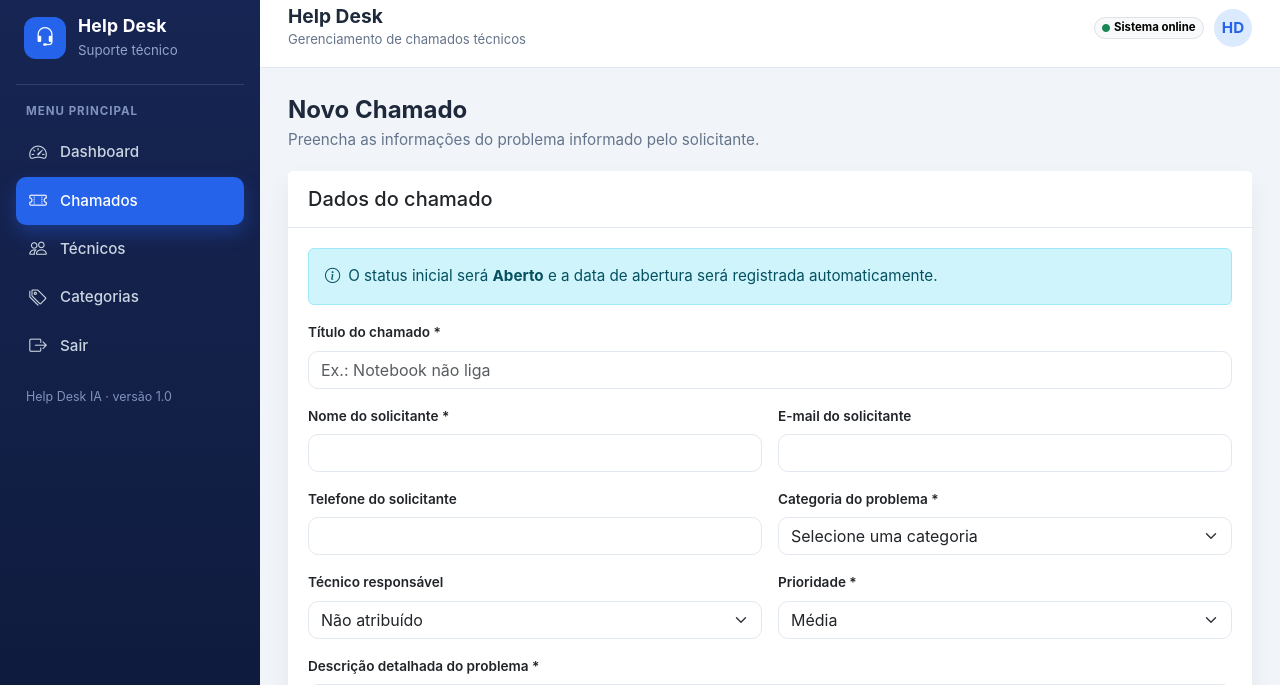
Scenario: Novo chamado › carrega categorias/técnicos e envia o formulário para a API
This screenshot has width=1280, height=685.
Expected: the heading "Novo Chamado" is shown, [288, 95, 467, 124]
Type "Teclado com falha" into the field labelled "Título do chamado *" at (770, 370), box [308, 351, 1232, 389]
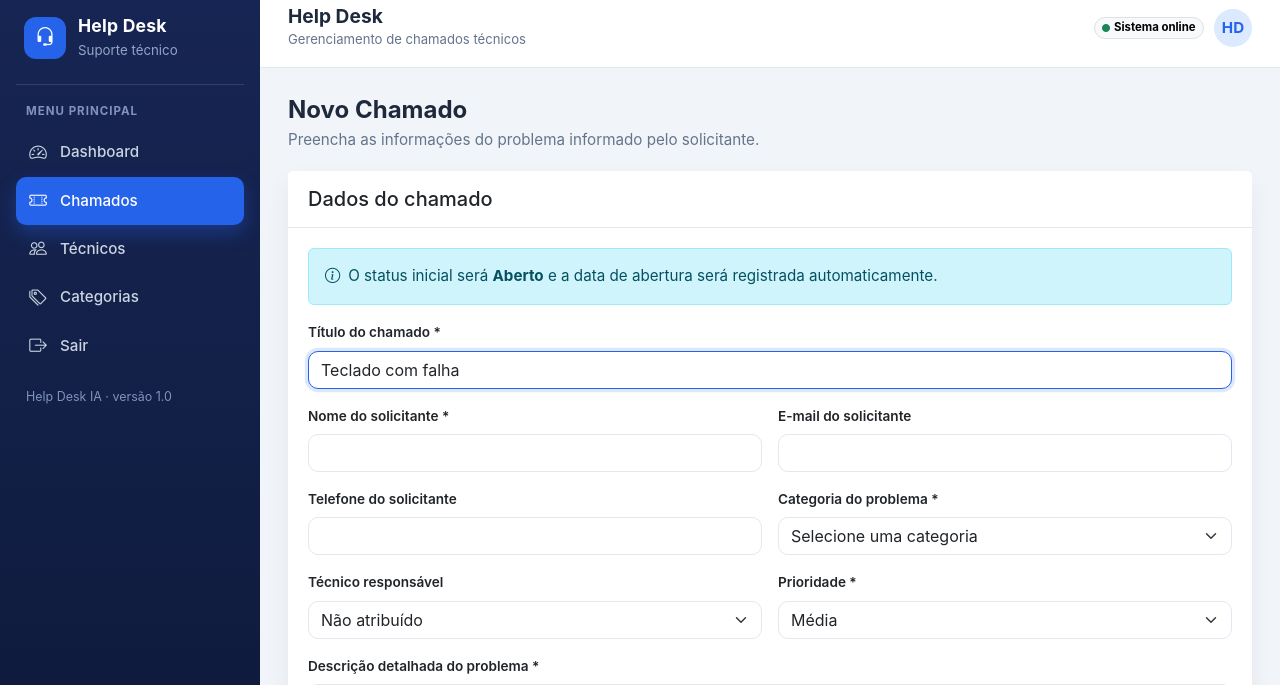
Type "Carlos Lima" into the field labelled "Nome do solicitante *" at (535, 453), box [308, 434, 762, 472]
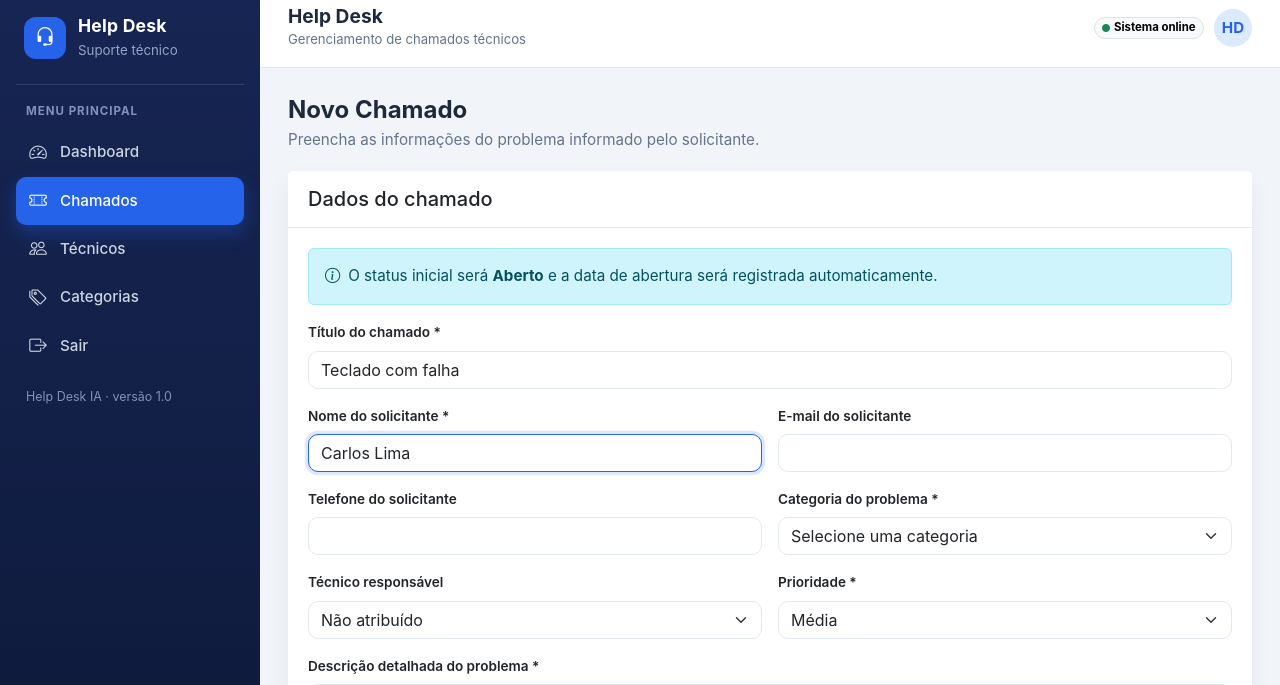
Select "Hardware" in the dropdown labelled "Categoria do problema *" at (1005, 536), box [778, 517, 1232, 555]
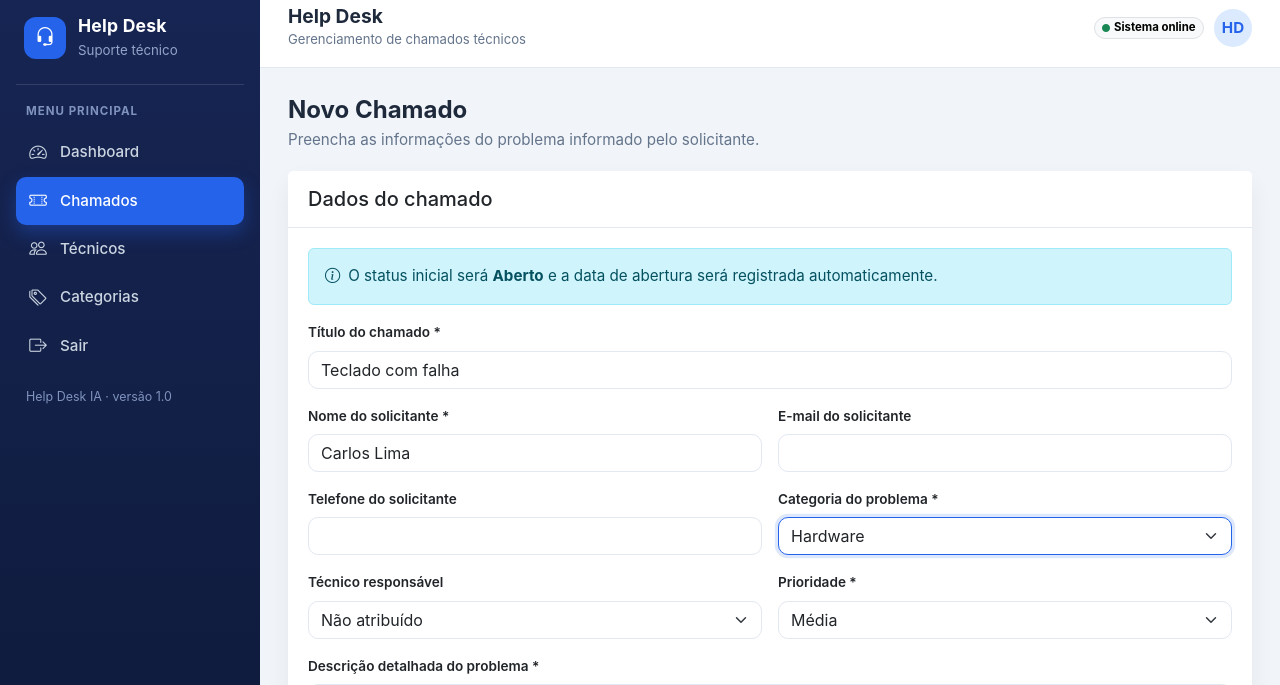
Select "Ana Paula Souza" in the dropdown labelled "Técnico responsável" at (535, 620), box [308, 601, 762, 639]
(page scrolled)
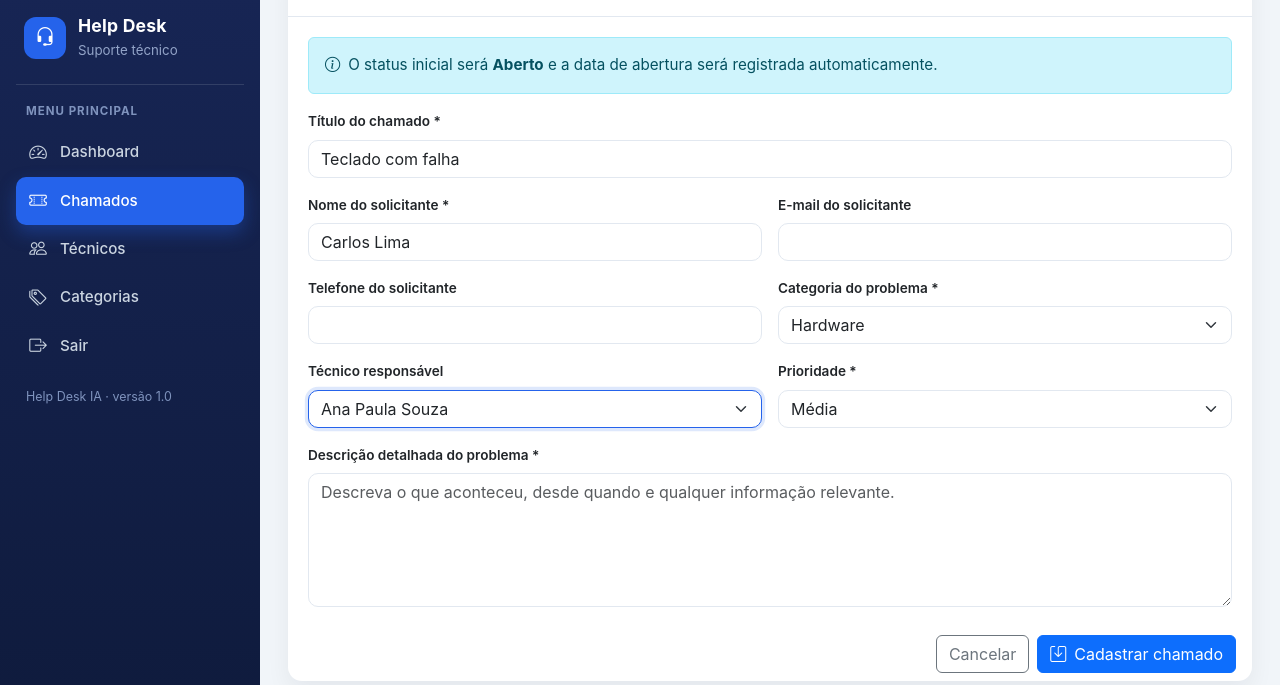
Type "Algumas teclas não respondem." into the text box labelled "Descrição detalhada do problema *" at (770, 540), box [308, 473, 1232, 607]
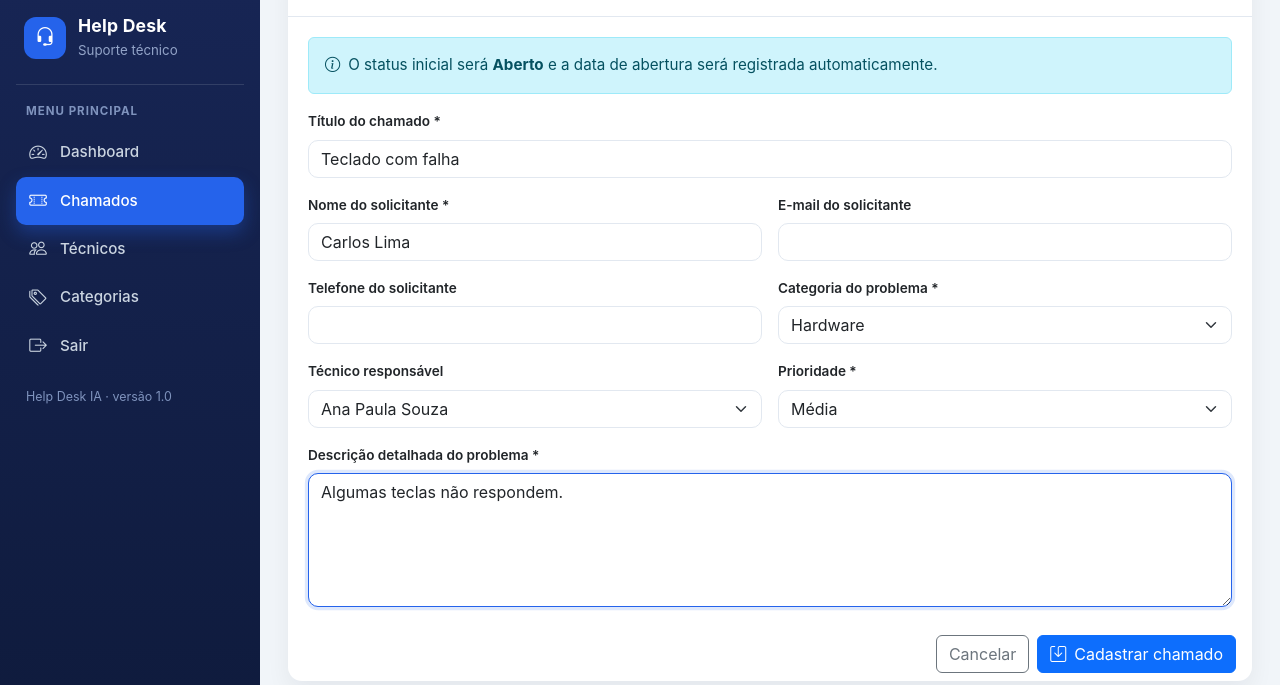
Click the button "Cadastrar chamado" at (1137, 654), box [1037, 635, 1236, 673]
(page scrolled)
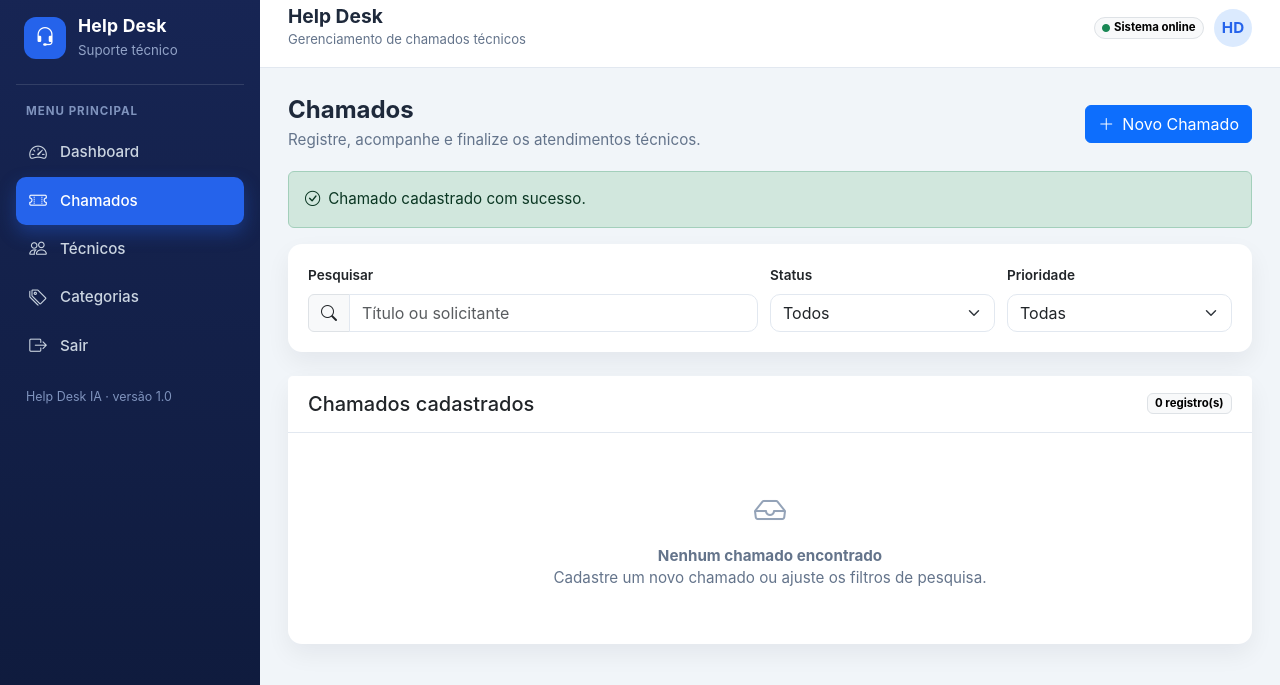
Result: the text "Chamado cadastrado com sucesso." is shown at [288, 171, 1252, 228]
